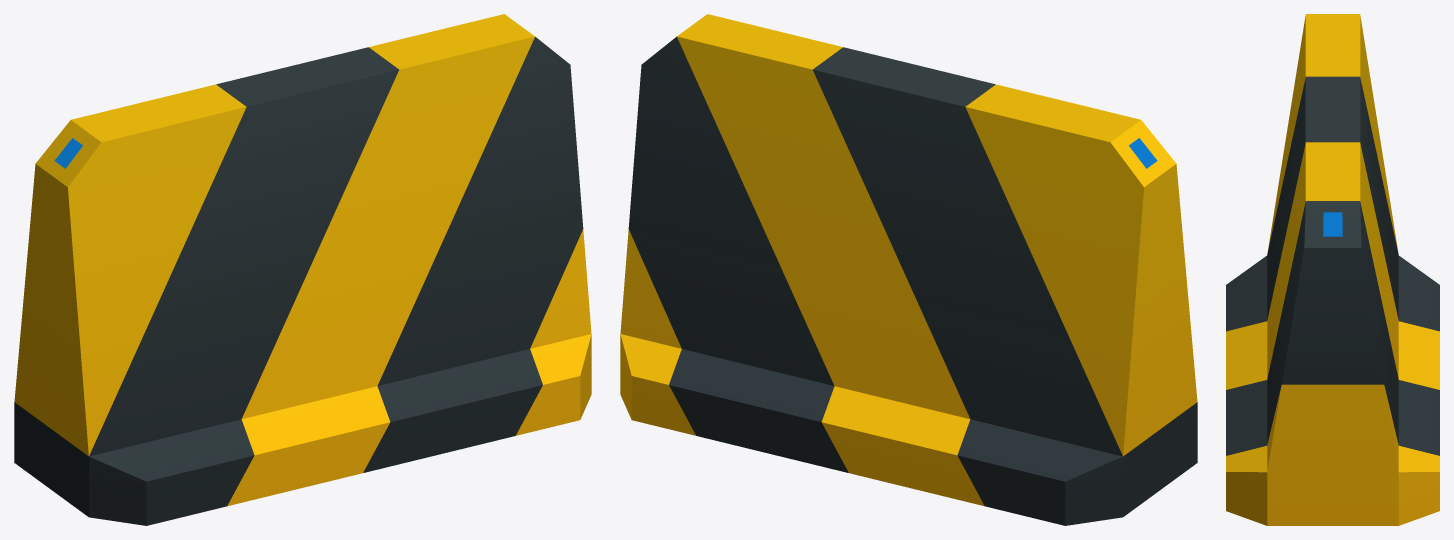
Rendered from Barriaer_004.glb.
The picture shows the model from 3 angles, left to right: view 1: azimuth 30°, elevation 25°; view 2: azimuth 150°, elevation 25°; view 3: azimuth 270°, elevation 25°; orthographic projection. The views are drawn at different scales.
Visible parts, largest first — view 1: Barriaer_004; view 2: Barriaer_004; view 3: Barriaer_004.
Part boxes in pixels (x1,y1,x2,y2): Barriaer_004: (14,14,591,525); Barriaer_004: (620,14,1197,525); Barriaer_004: (1226,14,1439,525).
Size of the model in its own units: 1.2 by 0.8 by 0.5.
Materials: 2 (2 with a texture image).
